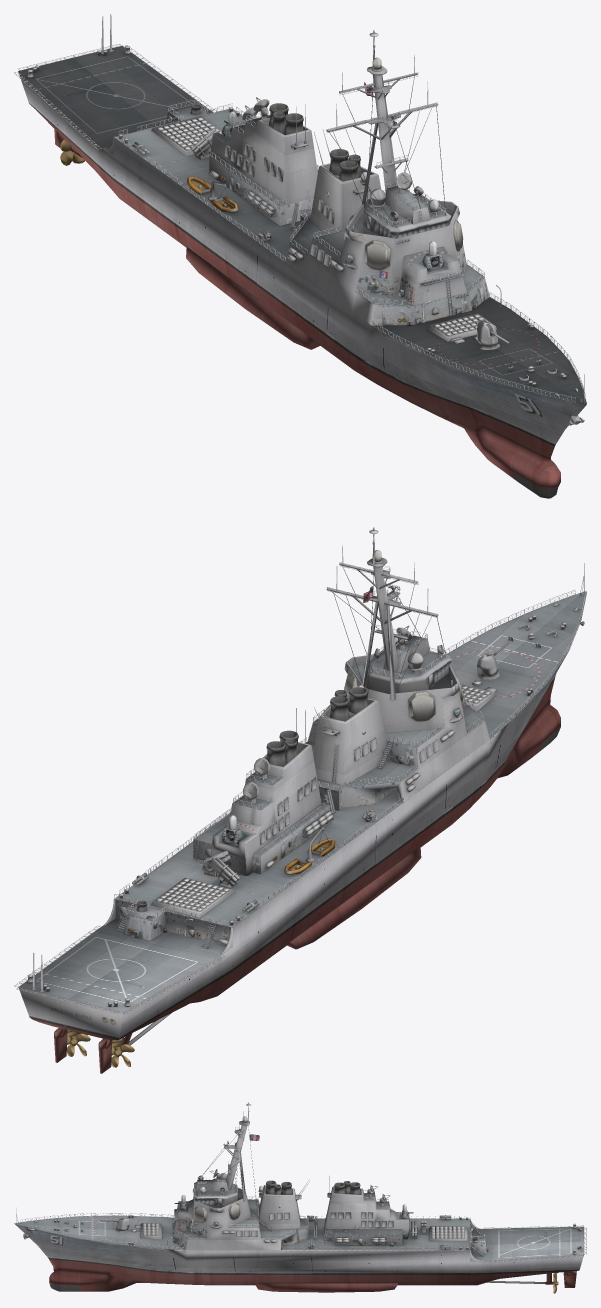
The model's file is ddg51.glb.
3 views of the same model, one above another, from view 1: azimuth 30°, elevation 25°; view 2: azimuth 150°, elevation 25°; view 3: azimuth 270°, elevation 25° (orthographic). The views are drawn at different scales.
Parts seen in each view (by area): view 1: ddg51; view 2: ddg51; view 3: ddg51.
Boxes of the visible parts, x1,y1,x2,y2 form: ddg51: (14,14,586,498); ddg51: (14,527,586,1073); ddg51: (14,1102,586,1293).
Size of the model in its own units: 21.91 by 55.71 by 153.
1 material, 1 textured.
